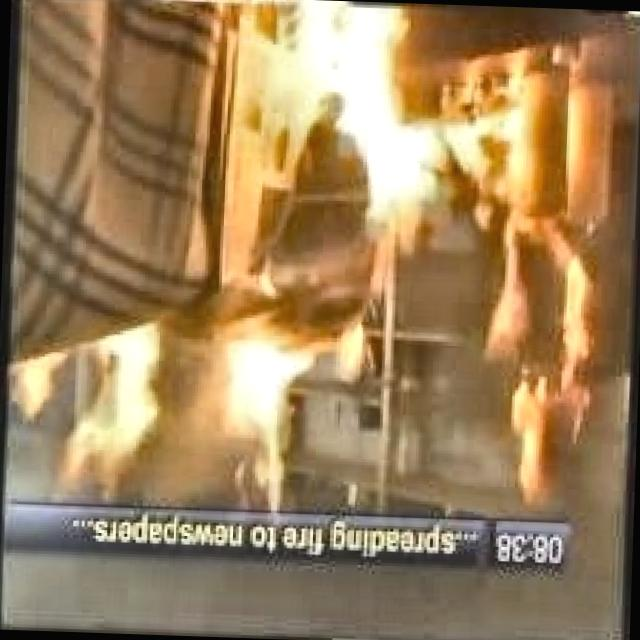fire: (37, 0, 628, 513)
